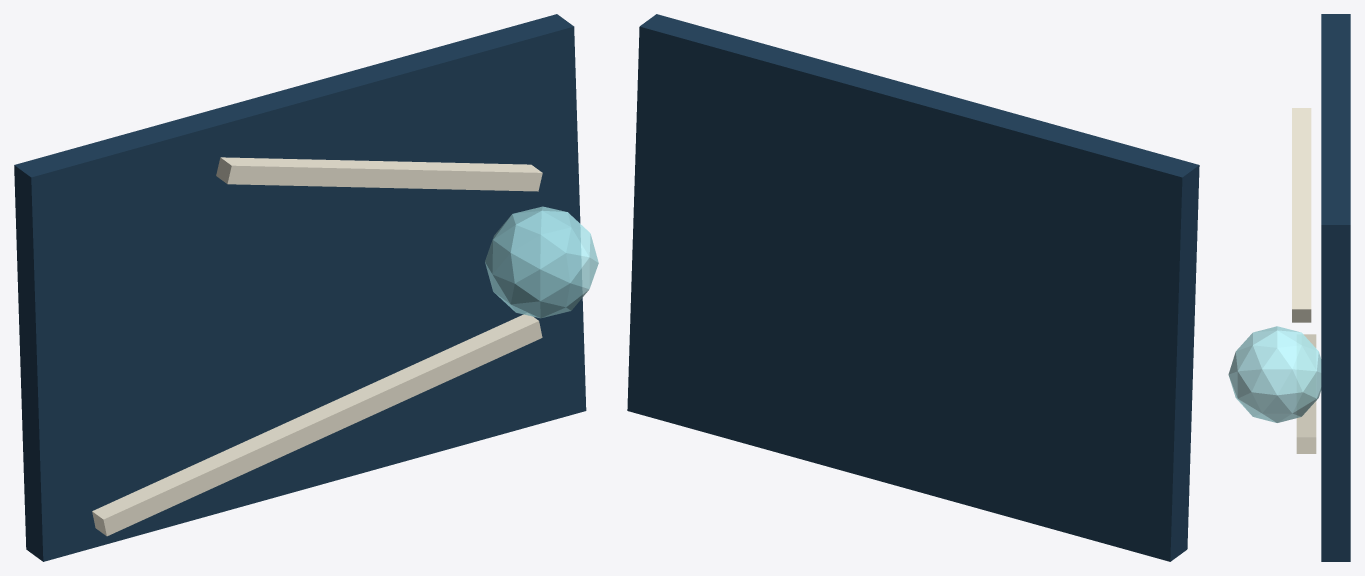
File: 02_world_prop_polish.glb
The picture shows the model from 3 angles, left to right: view 1: azimuth 30°, elevation 25°; view 2: azimuth 150°, elevation 25°; view 3: azimuth 270°, elevation 25°; orthographic projection. The views are drawn at different scales.
Visible parts, largest first — view 1: object_overlay_plate, edge_wear_a, glow_socket, edge_wear_b; view 2: object_overlay_plate; view 3: object_overlay_plate, glow_socket, edge_wear_b, edge_wear_a.
Part boxes in pixels (left/top/right/bottom): object_overlay_plate: left=14, top=14, right=586, bottom=561; edge_wear_a: left=92, top=313, right=542, bottom=536; glow_socket: left=485, top=206, right=598, bottom=318; edge_wear_b: left=216, top=157, right=542, bottom=191; object_overlay_plate: left=627, top=14, right=1199, bottom=561; object_overlay_plate: left=1321, top=14, right=1350, bottom=561; glow_socket: left=1228, top=326, right=1321, bottom=422; edge_wear_b: left=1292, top=108, right=1311, bottom=322; edge_wear_a: left=1296, top=334, right=1316, bottom=453.
Bounding box in the file's own units: 1.12 × 0.7855 × 0.25.
